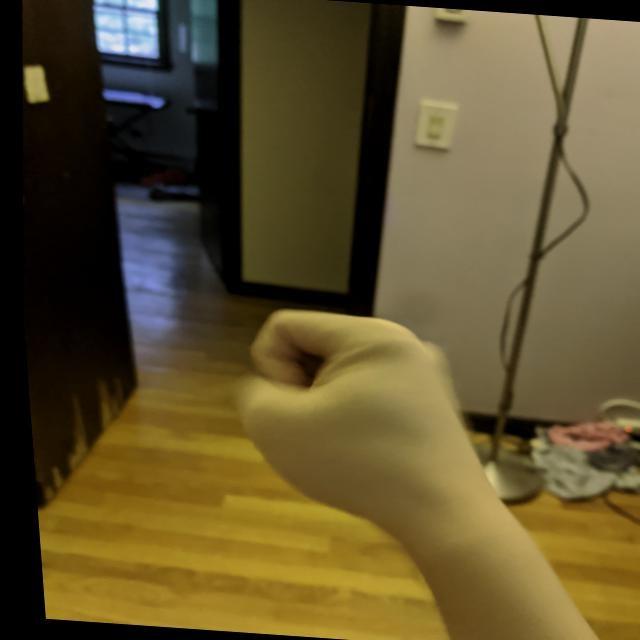J: (202, 296, 506, 542)
